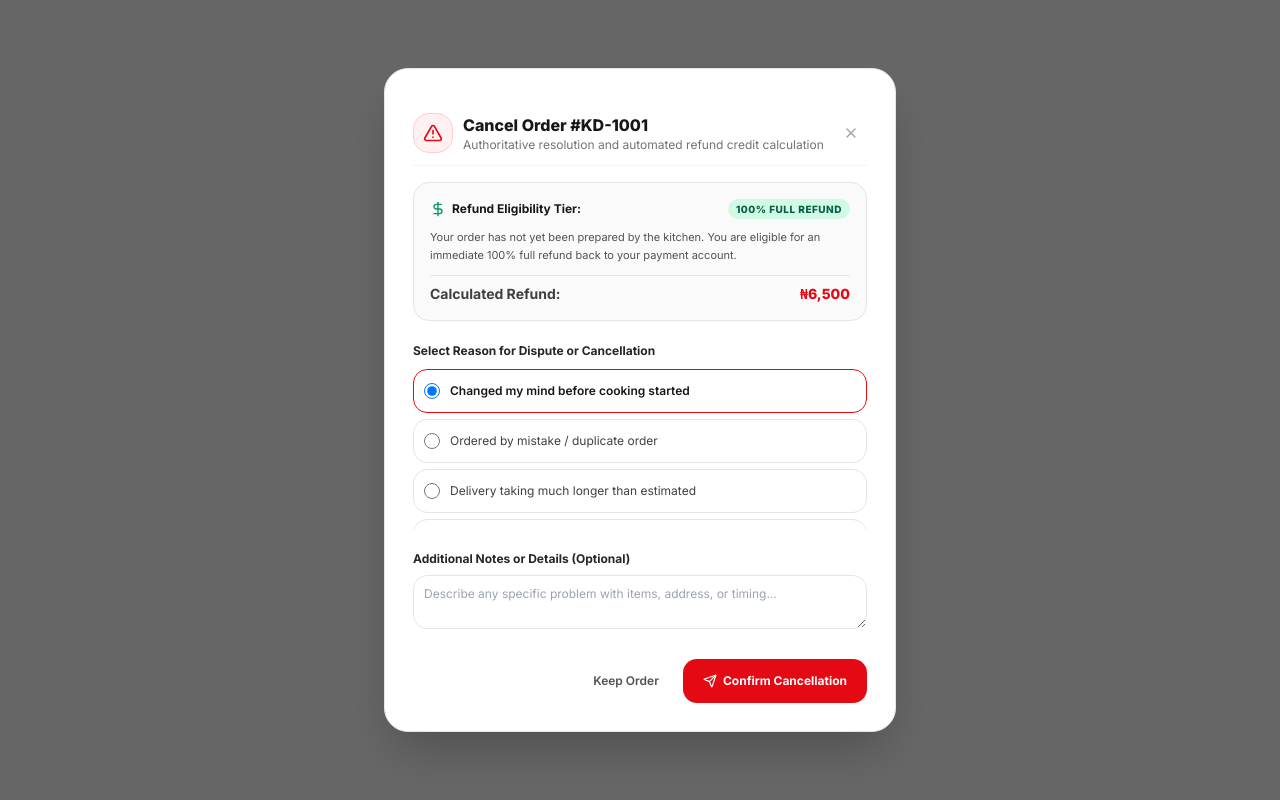
Test: Phase 4: Kitchen Display, Live Stepper, WhatsApp Bridge & Smart Dispute Suite › SmartDisputeResolutionModal Component › displays 100% full refund tier when cancelled before cooking
The width and height of the screenshot is (1280, 800).
Expected: the text "100% Full Refund" is shown, [728, 199, 850, 219]
Expected: the text "₦6,500" is shown, [800, 284, 850, 304]
Click the button "Confirm Cancellation" at coordinates (775, 681), box [683, 659, 867, 703]
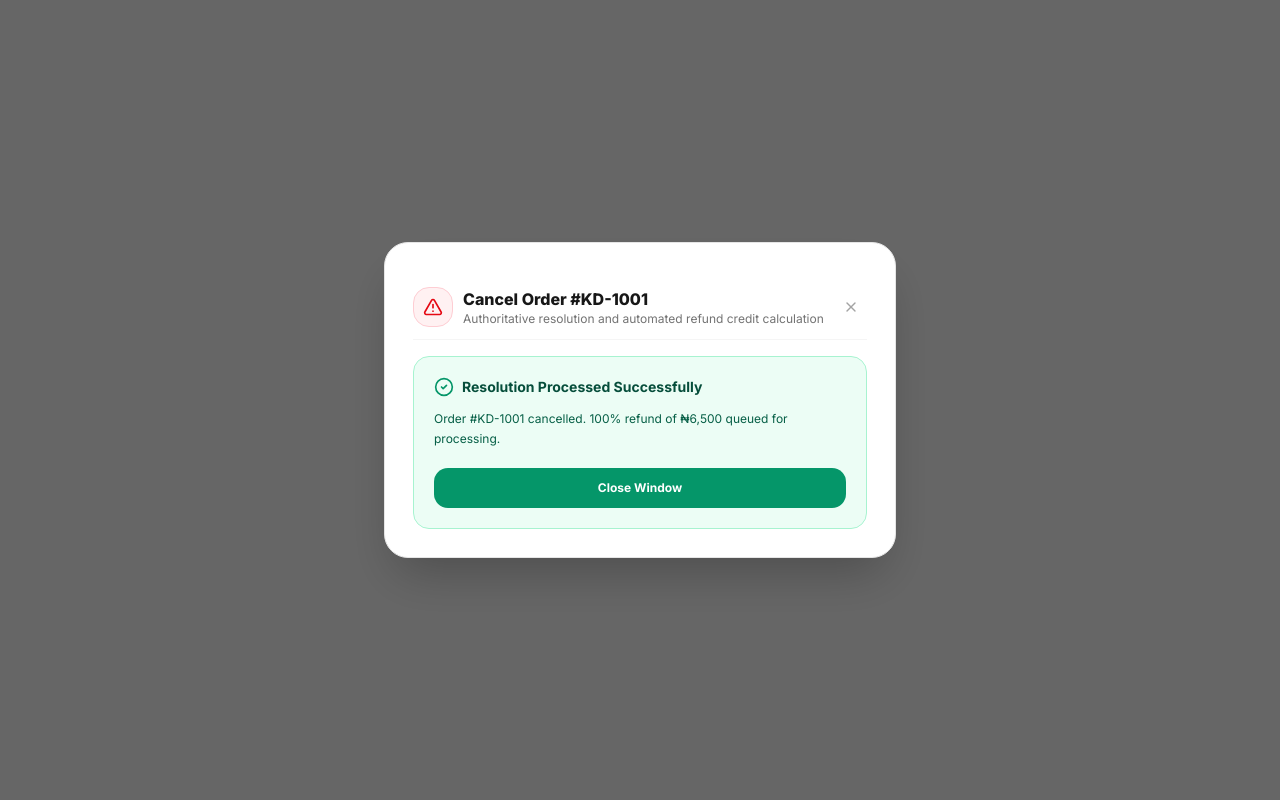
Expected: the text "100% refund of ₦6,500 queued" is shown, [434, 411, 788, 446]
